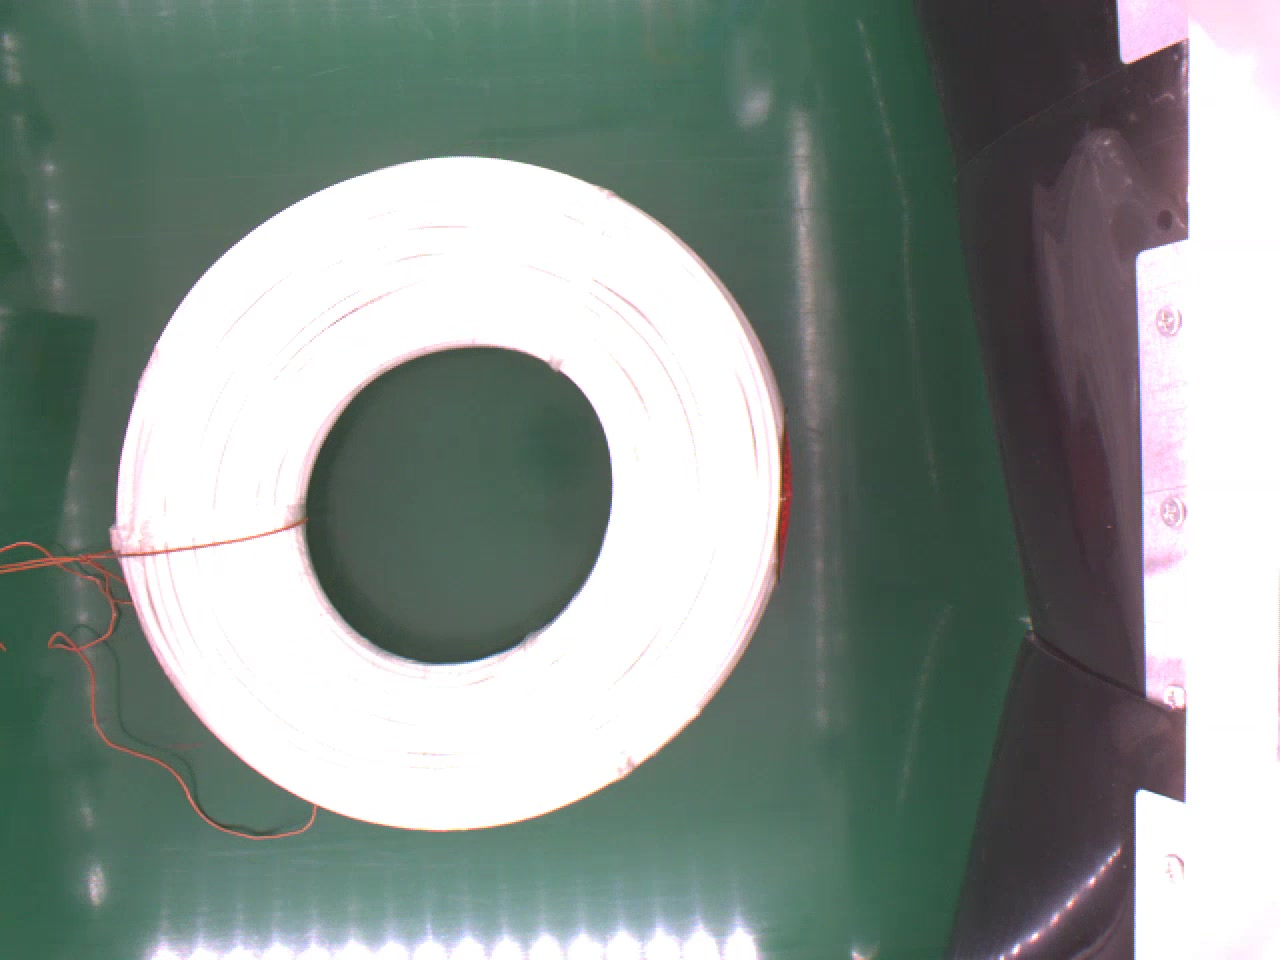white: (109, 151, 793, 833)
